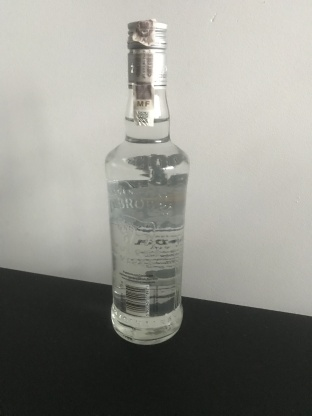nakretka: (125, 18, 169, 93)
